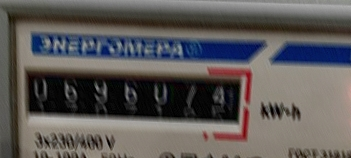0: (27, 74, 47, 99), (149, 78, 166, 104)
4: (207, 81, 224, 104)
5: (207, 106, 224, 122)
6: (120, 77, 138, 104), (59, 76, 77, 101)
7: (179, 80, 197, 106)
9: (89, 76, 106, 103)
screen: (10, 55, 253, 135)
